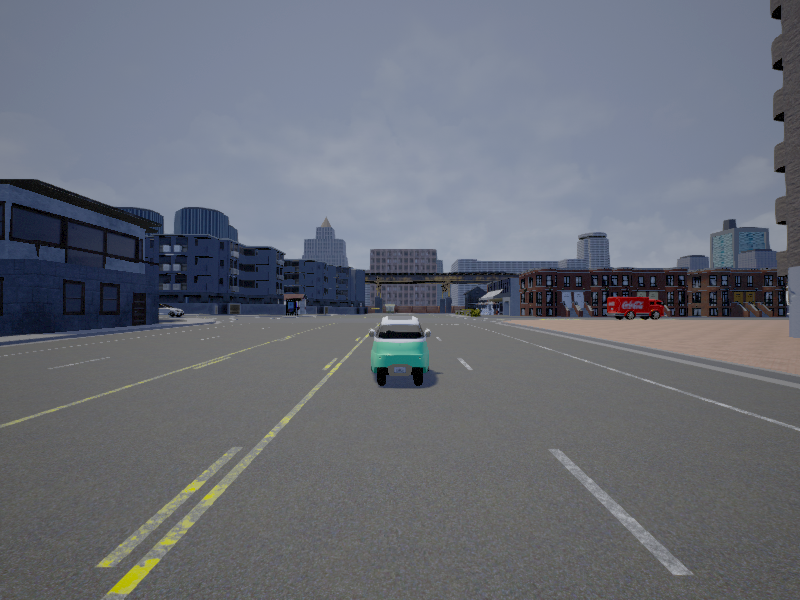Benign: (370, 314, 430, 384), (607, 296, 666, 322), (158, 303, 184, 318)
